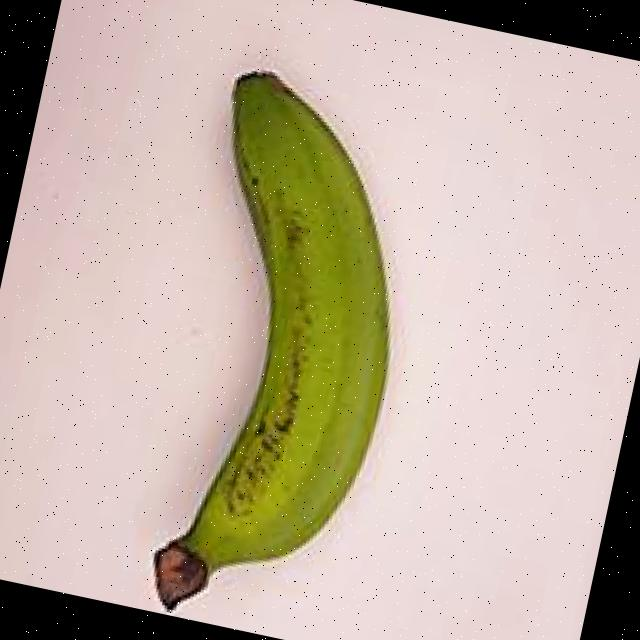Raw: (65, 40, 453, 640)
